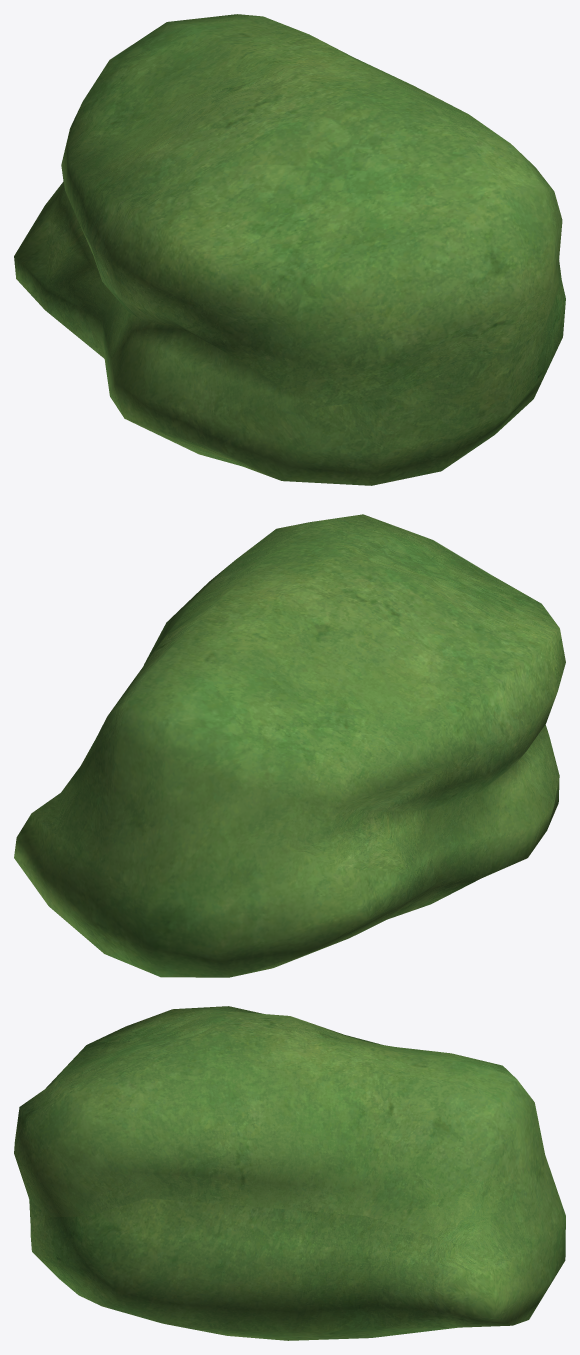
File: SM_ENV_KNFRST_RockMiddle_A.FBX
3 views of the same model, one above another, from view 1: azimuth 30°, elevation 25°; view 2: azimuth 150°, elevation 25°; view 3: azimuth 270°, elevation 25° (orthographic). The views are drawn at different scales.
Visible parts, largest first — view 1: SM_ENV_KNFRST_RockMiddle_A; view 2: SM_ENV_KNFRST_RockMiddle_A; view 3: SM_ENV_KNFRST_RockMiddle_A.
Part boxes in pixels (x1,y1,x2,y2): SM_ENV_KNFRST_RockMiddle_A: [14, 14, 565, 485]; SM_ENV_KNFRST_RockMiddle_A: [14, 514, 565, 977]; SM_ENV_KNFRST_RockMiddle_A: [14, 1006, 565, 1340].
Bounding box in the file's own units: 374 × 323 × 530.
